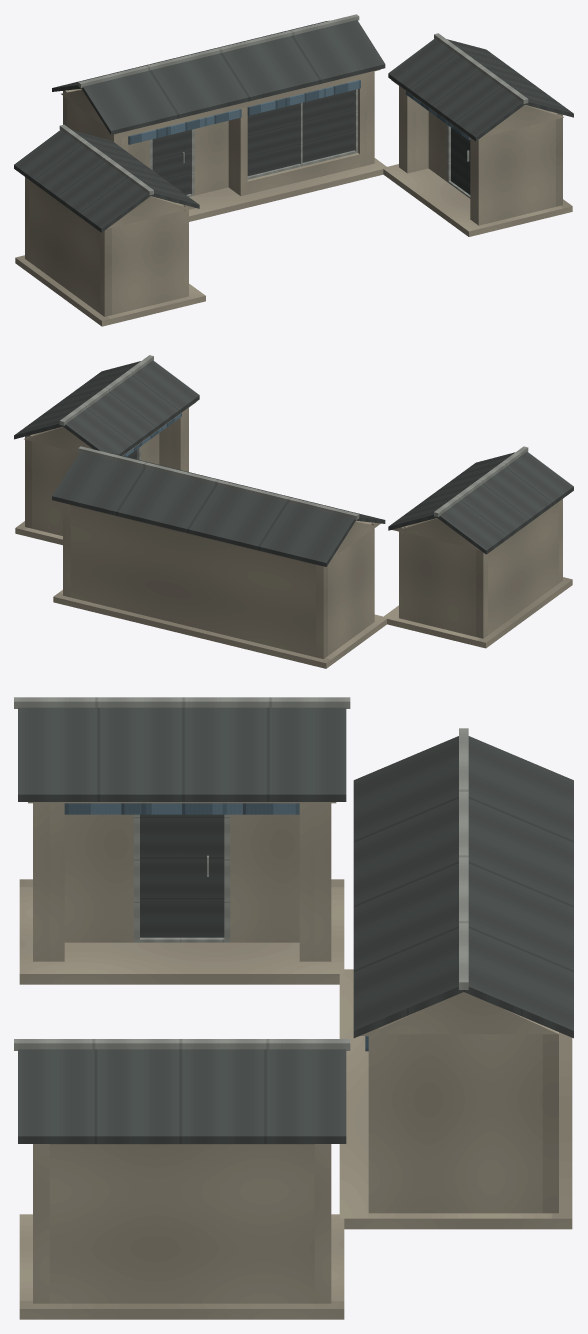
3 renders of one model, top to bottom at view 1: azimuth 30°, elevation 25°; view 2: azimuth 150°, elevation 25°; view 3: azimuth 270°, elevation 25°, orthographic. The views are drawn at different scales.
Visible parts, largest first — view 1: vaduz; view 2: vaduz; view 3: vaduz.
Part boxes in pixels (x1,y1,x2,y2): vaduz: (14,14,573,326); vaduz: (14,355,573,668); vaduz: (14,697,573,1319).
Bounding box in the file's own units: 8.6 × 2.32 × 4.72.
Materials: 1 (1 with a texture image).
